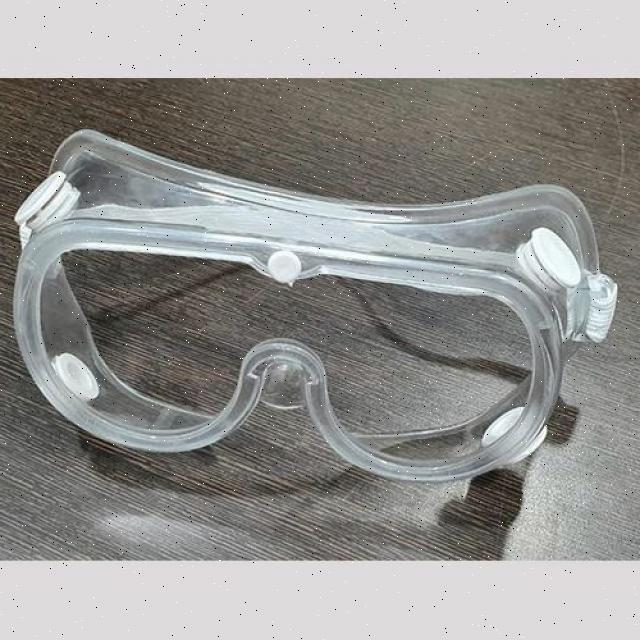Goggles: (3, 123, 628, 505)
